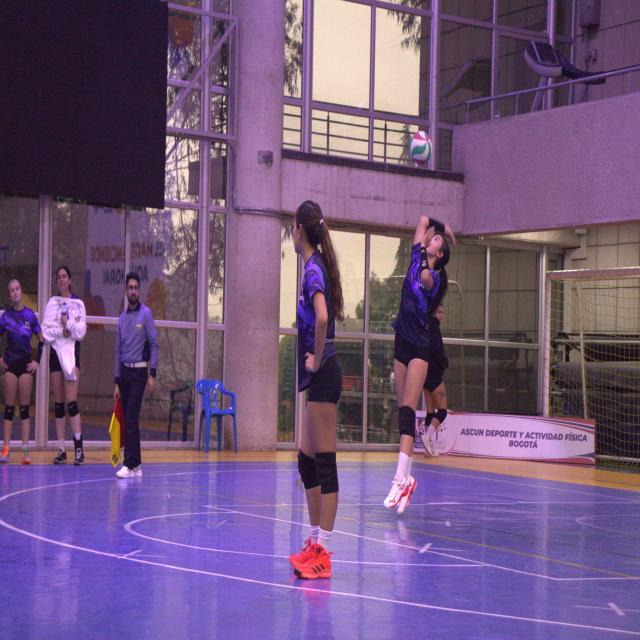volleyball: (411, 132, 432, 165)
